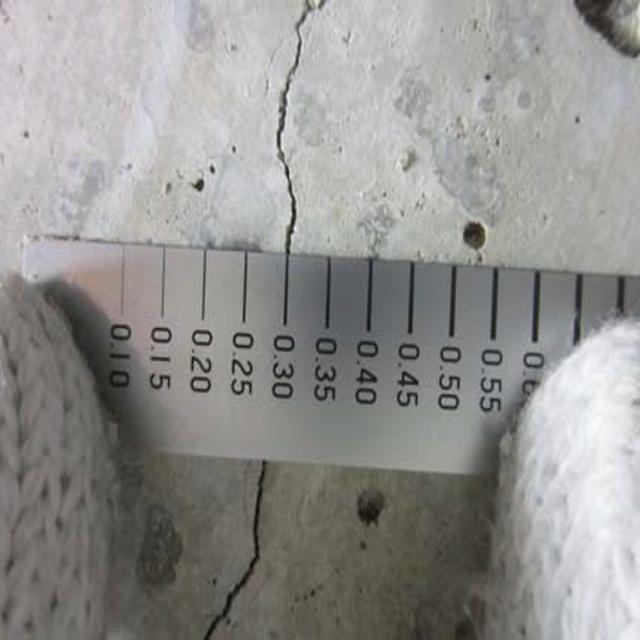crack: (170, 464, 290, 640), (260, 3, 341, 254)
